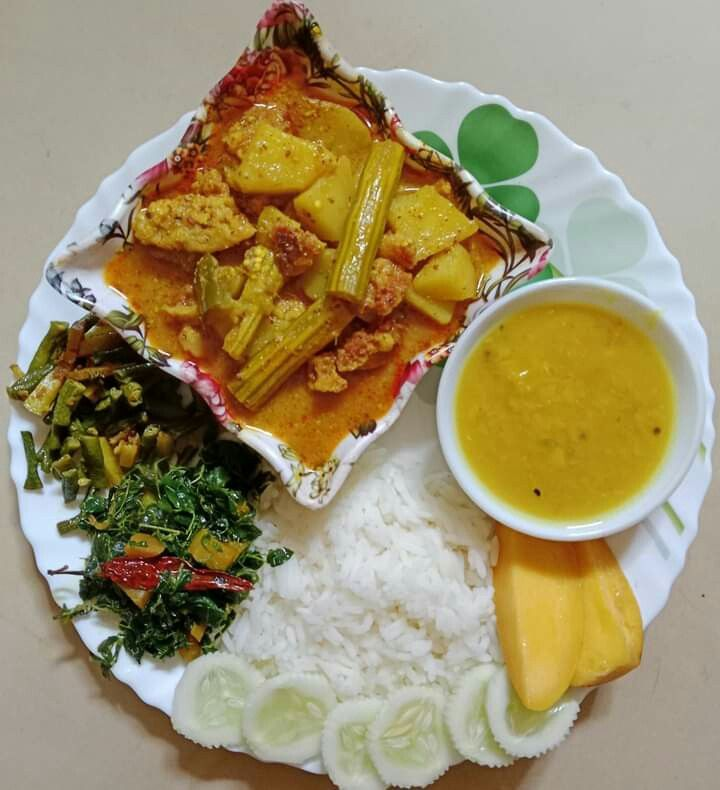bhat: (208, 472, 485, 693)
dal: (450, 302, 681, 519)
sabji: (116, 84, 500, 450), (22, 342, 251, 660)
